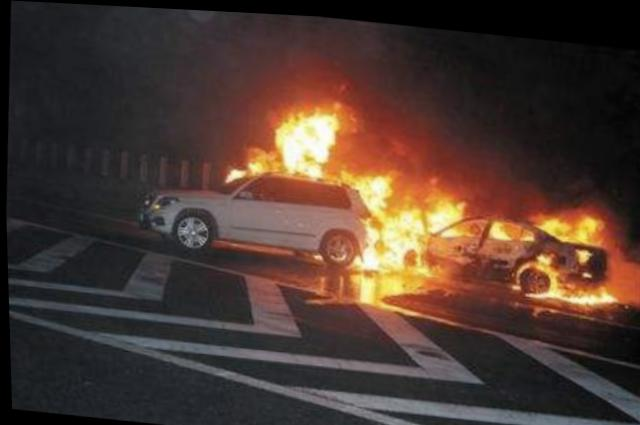fire: (221, 95, 629, 309)
